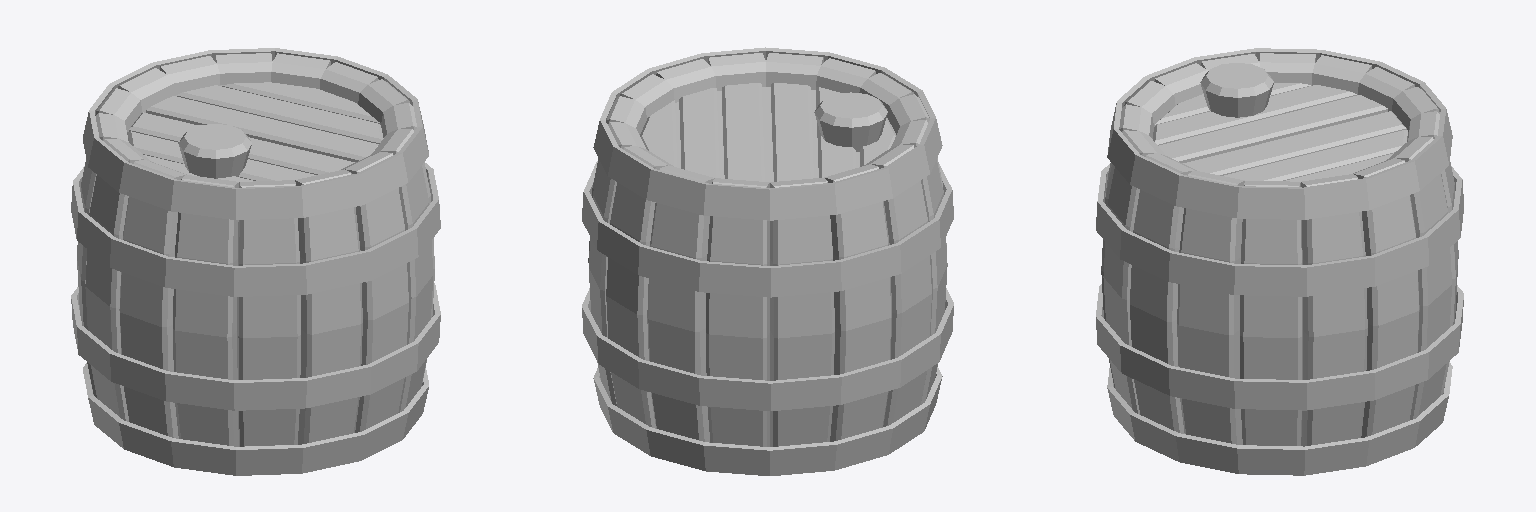
File: Barrel5.obj
3 views of the same model, side by side, from view 1: azimuth 30°, elevation 25°; view 2: azimuth 150°, elevation 25°; view 3: azimuth 270°, elevation 25° (orthographic).
Parts seen in each view (by area): view 1: Barrel5; view 2: Barrel5; view 3: Barrel5.
Part boxes in pixels (x1,y1,x2,y2): Barrel5: (71,48,440,475); Barrel5: (582,47,953,475); Barrel5: (1096,48,1463,475).
Size of the model in its own units: 3.65 by 3.28 by 3.65.